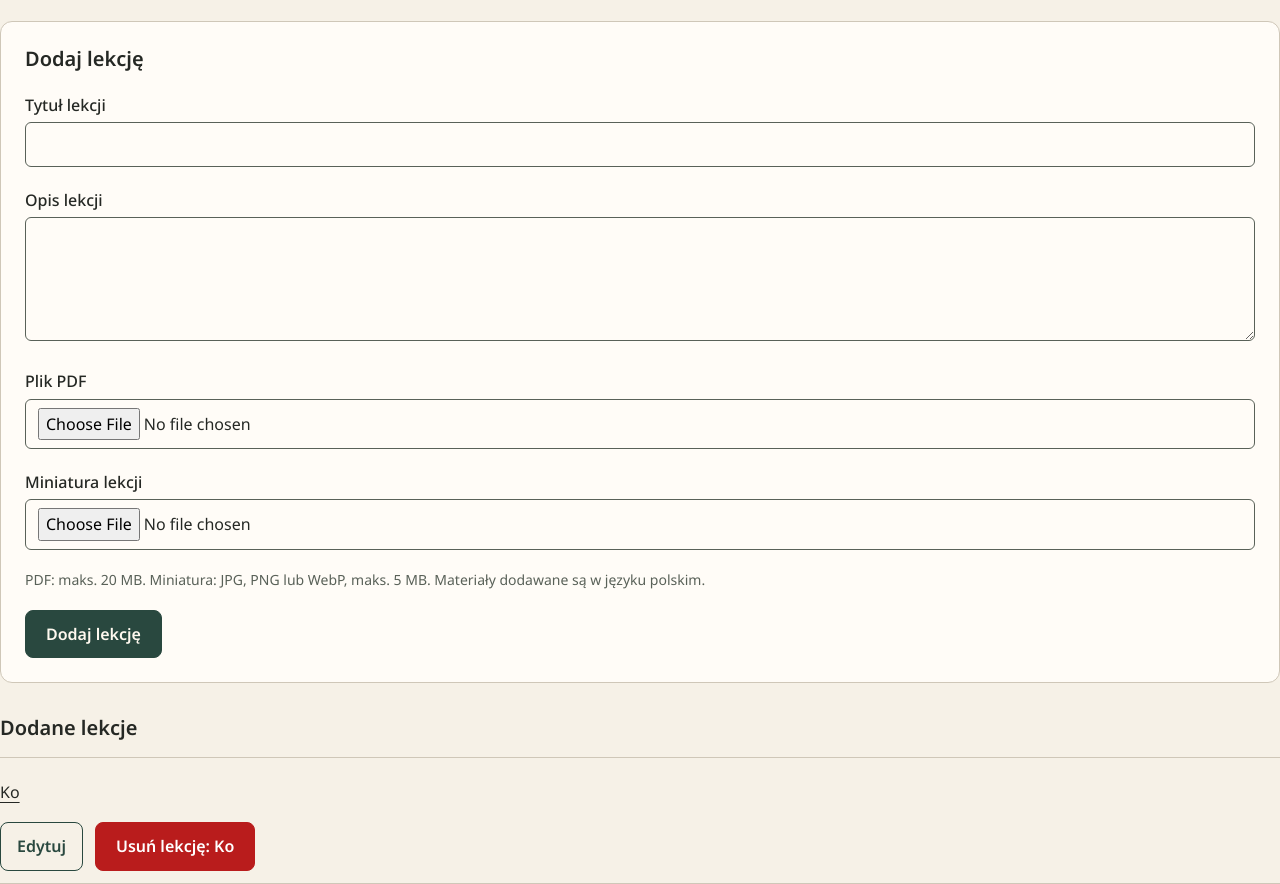
LessonManager › announces deletion after refreshing away the deleted row
(page scrolled)
Click the button "Usuń lekcję: Ko": (175, 847) [95,822,255,871]
(page scrolled)
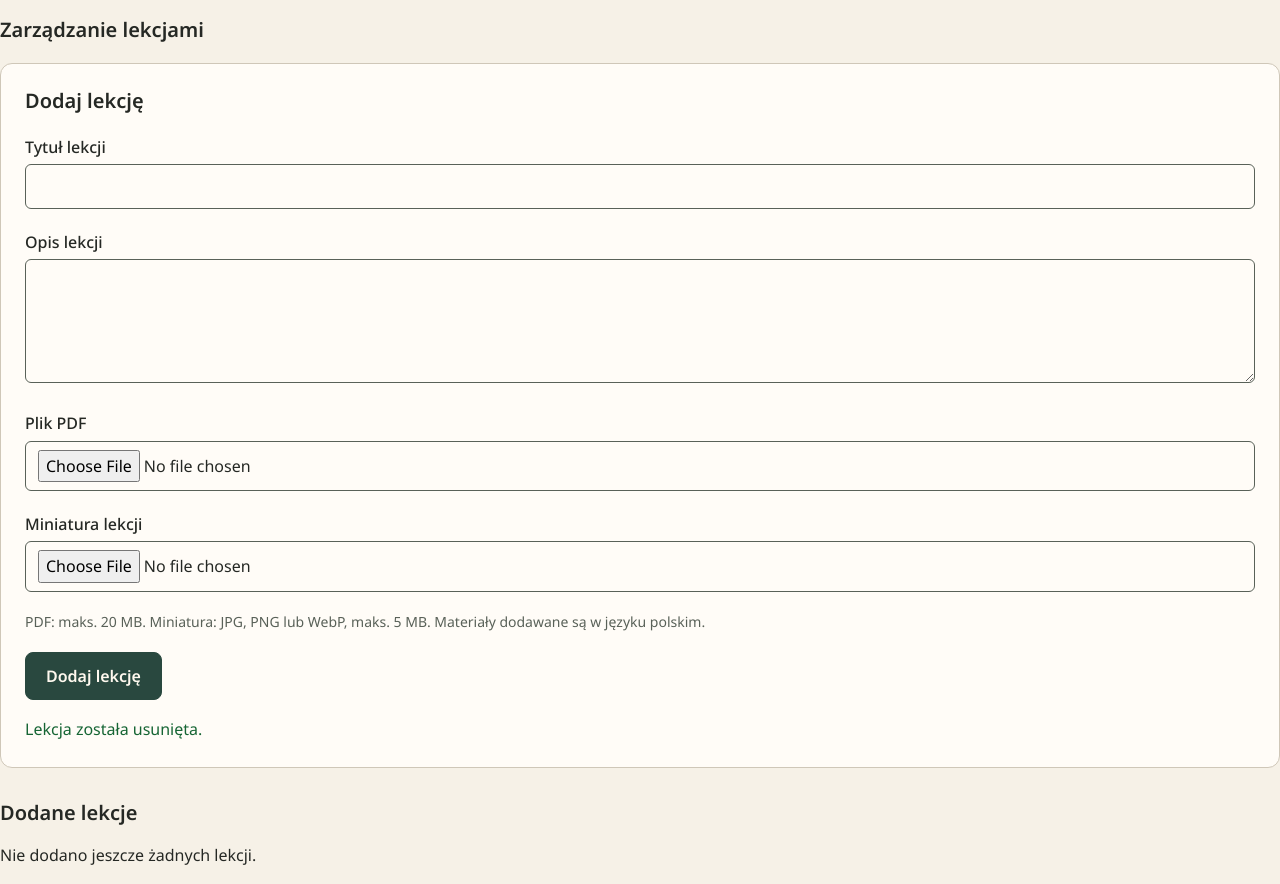
Result: the button "Usuń lekcję: Ko" is gone
Result: the message reads "Lekcja została usunięta." at [25,718,202,740]
